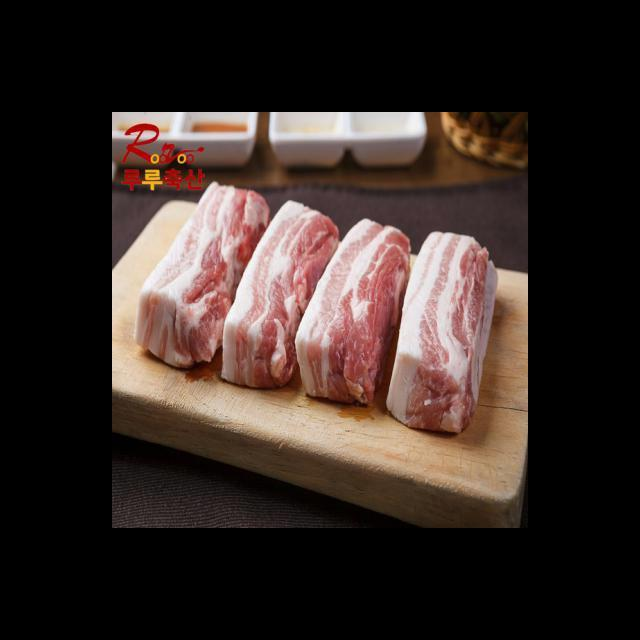pork: (172, 184, 499, 434)
